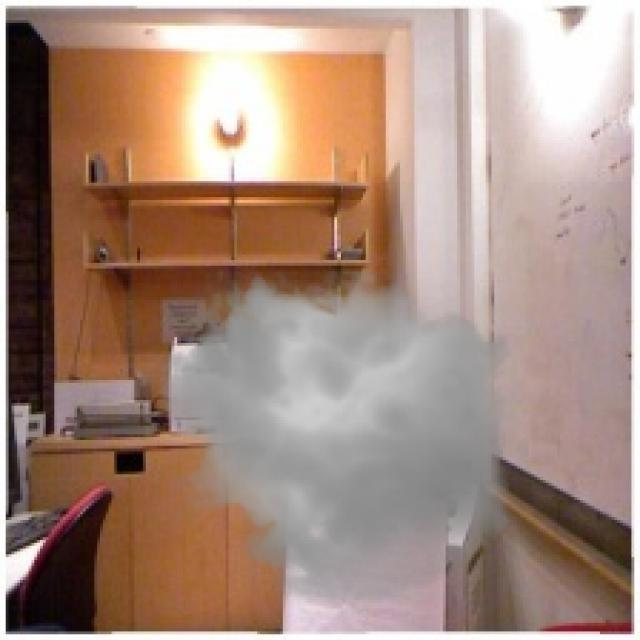Smoke: (146, 254, 528, 617)
